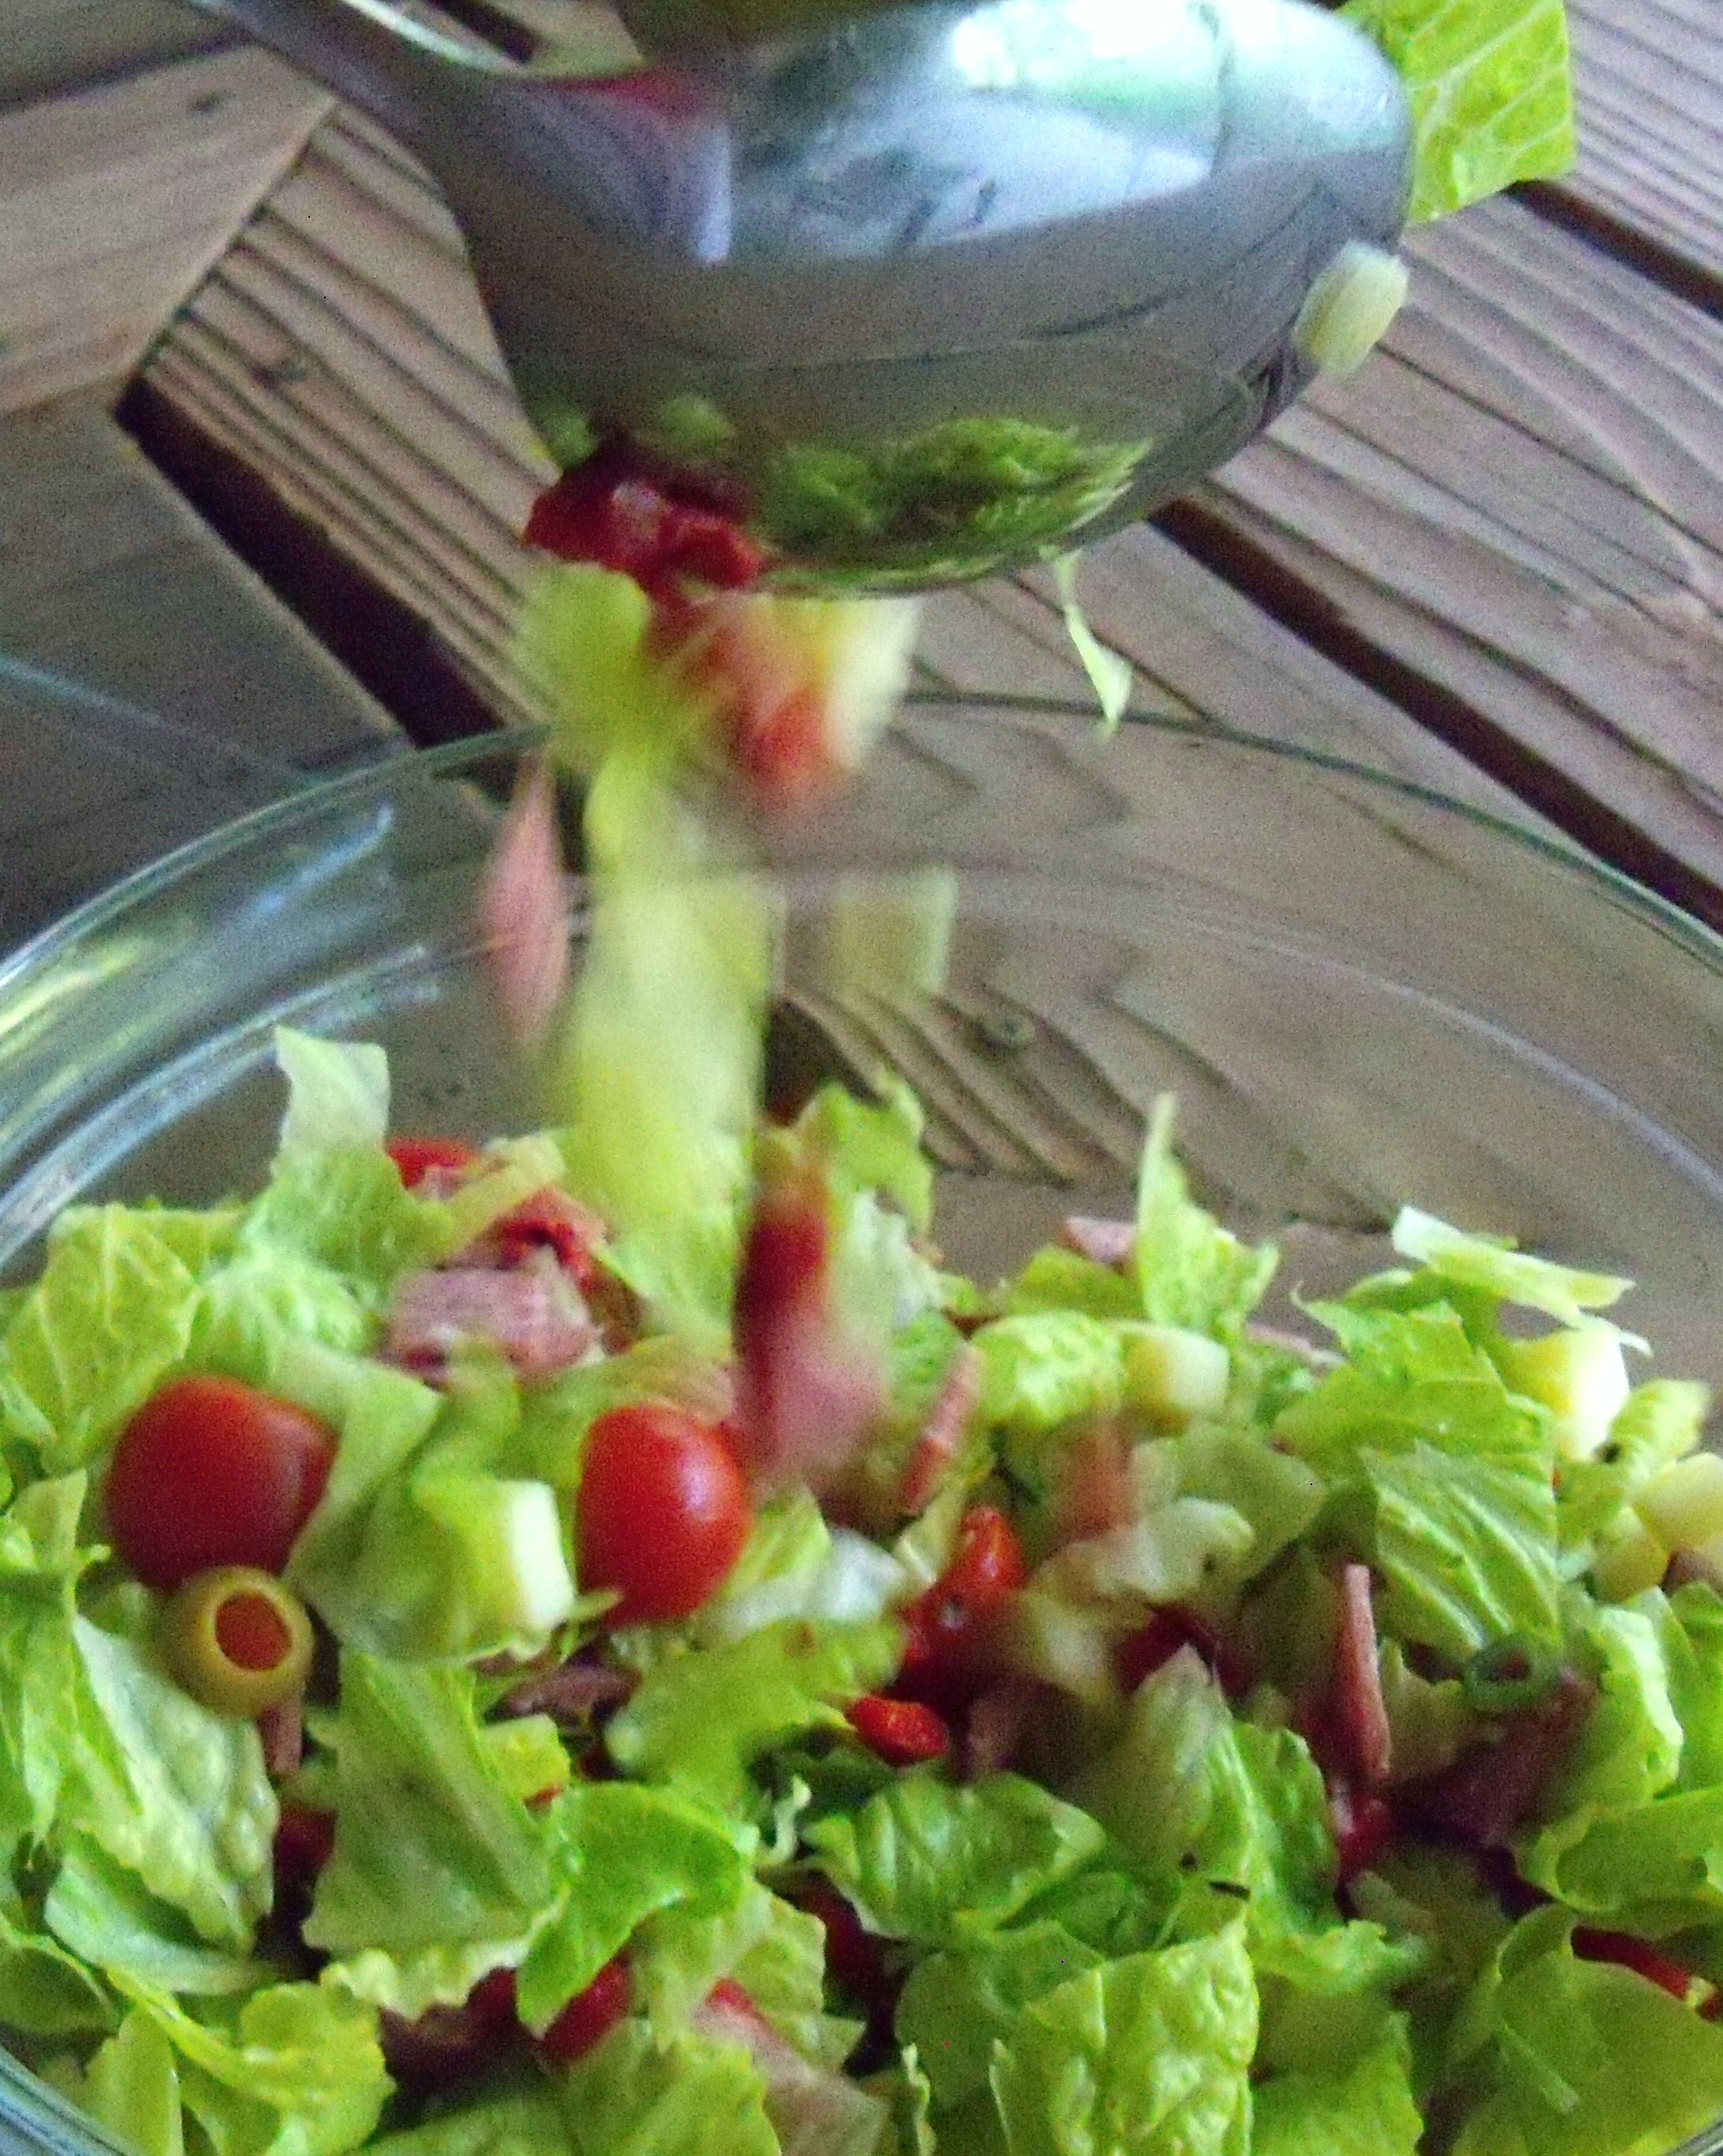chopped lettuce: (67, 1182, 1684, 2138)
